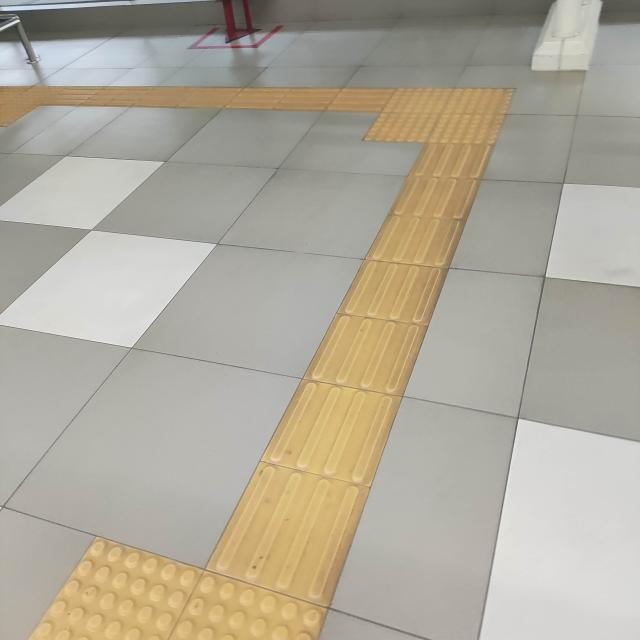kiri: (256, 48, 578, 184)
